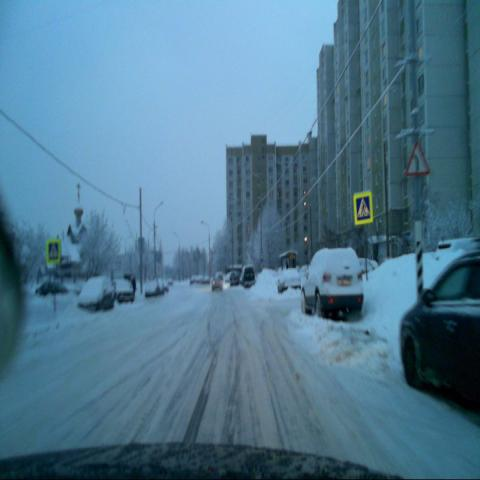1_11_1: (405, 140, 429, 174)
